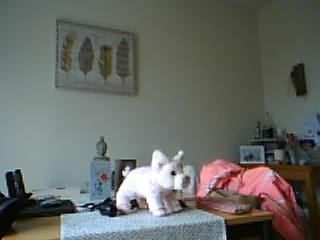piggy: (114, 148, 192, 218)
